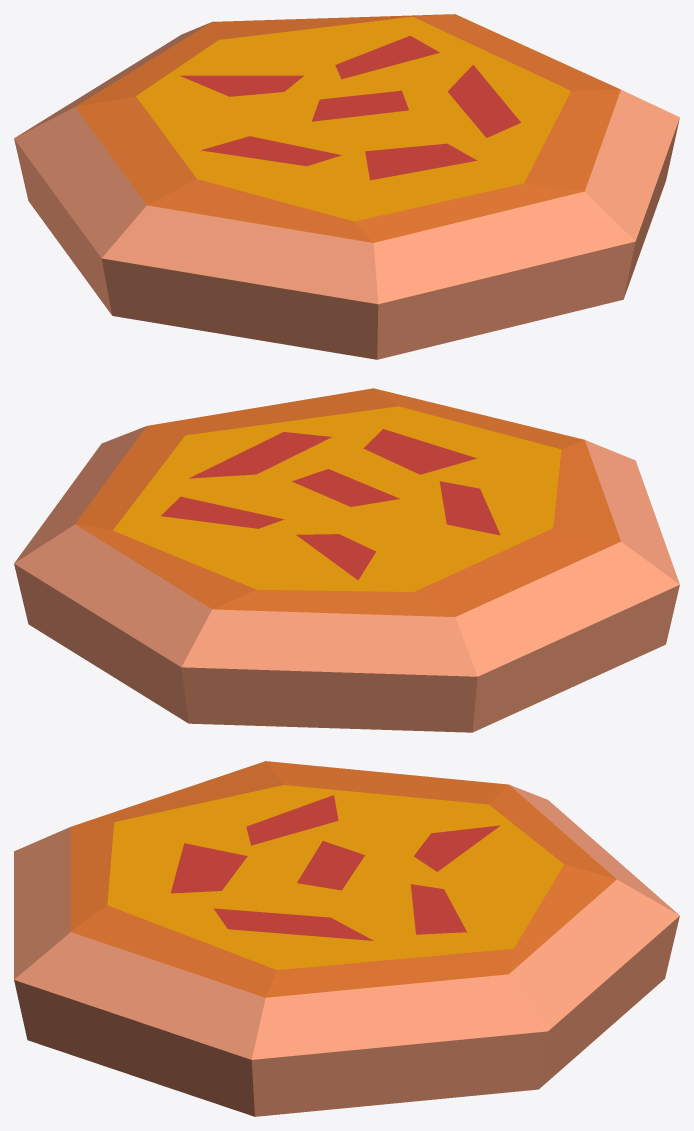
The model's file is MiniPizza.fbx.
The picture shows the model from 3 angles, top to bottom: view 1: azimuth 30°, elevation 25°; view 2: azimuth 150°, elevation 25°; view 3: azimuth 270°, elevation 25°; orthographic projection. The views are drawn at different scales.
Parts seen in each view (by area): view 1: Mini Pizza; view 2: Mini Pizza; view 3: Mini Pizza.
Part boxes in pixels (x1,y1,x2,y2): Mini Pizza: (14, 14, 679, 359); Mini Pizza: (14, 388, 679, 732); Mini Pizza: (14, 761, 679, 1116).
Size of the model in its own units: 51.07 by 9.55 by 49.79.
